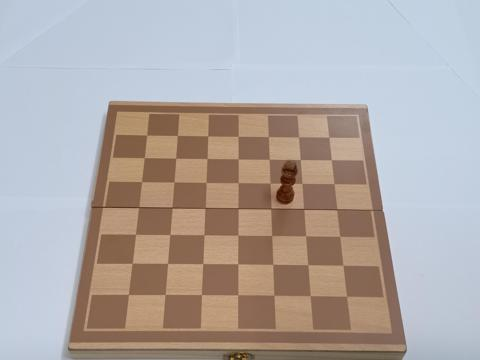xcorner: (143, 130, 153, 140), (124, 291, 134, 301), (166, 231, 176, 241), (297, 155, 307, 165), (299, 179, 309, 189), (303, 232, 313, 242), (305, 261, 315, 271), (328, 155, 338, 165), (334, 205, 344, 215), (337, 232, 347, 242), (344, 292, 354, 302), (141, 153, 150, 163), (138, 177, 147, 187), (135, 203, 144, 213), (131, 231, 141, 240), (128, 260, 137, 270), (172, 154, 182, 163), (170, 178, 180, 187), (168, 204, 178, 213), (164, 260, 173, 270), (161, 292, 171, 301), (205, 131, 214, 141), (203, 178, 212, 188), (201, 231, 210, 241), (199, 261, 209, 270), (198, 292, 208, 301), (235, 131, 244, 141), (235, 154, 244, 164), (235, 204, 244, 214), (265, 132, 275, 141), (266, 155, 276, 164), (267, 179, 277, 188), (268, 205, 278, 214), (269, 232, 279, 241), (270, 261, 280, 270), (271, 292, 281, 301), (296, 132, 305, 142), (301, 205, 311, 214), (308, 292, 317, 302), (331, 180, 341, 189), (341, 261, 350, 271), (174, 131, 183, 140), (204, 154, 213, 163), (202, 204, 211, 213), (235, 179, 244, 188), (235, 232, 244, 241), (235, 261, 244, 270), (235, 292, 244, 301), (326, 133, 335, 142)
